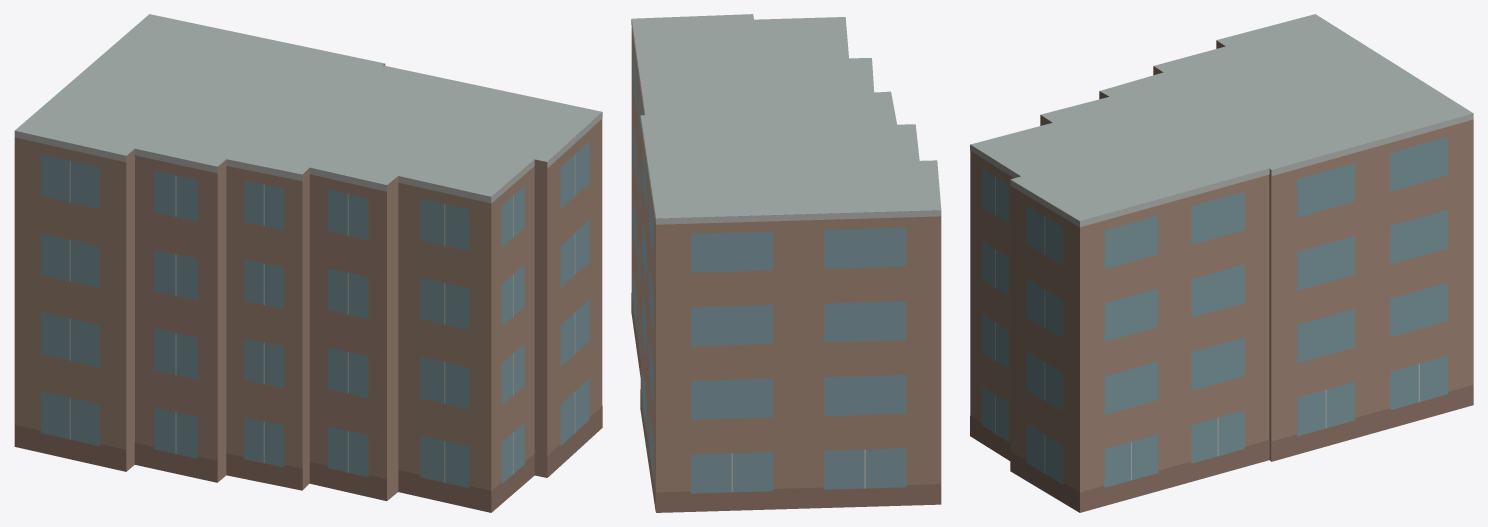
Rendered from survey-upis-32982986.glb.
3 views of the same model, side by side, from view 1: azimuth 30°, elevation 25°; view 2: azimuth 150°, elevation 25°; view 3: azimuth 270°, elevation 25° (orthographic). The views are drawn at different scales.
Visible parts, largest first — view 1: survey-upis-32982986.tmp; view 2: survey-upis-32982986.tmp; view 3: survey-upis-32982986.tmp.
Boxes of the visible parts, x1=… form: survey-upis-32982986.tmp: x1=14, y1=14, x2=602, y2=512; survey-upis-32982986.tmp: x1=631, y1=14, x2=941, y2=512; survey-upis-32982986.tmp: x1=970, y1=14, x2=1473, y2=512.
Bounding box in the file's own units: 17.68 × 11.6 × 18.16.
